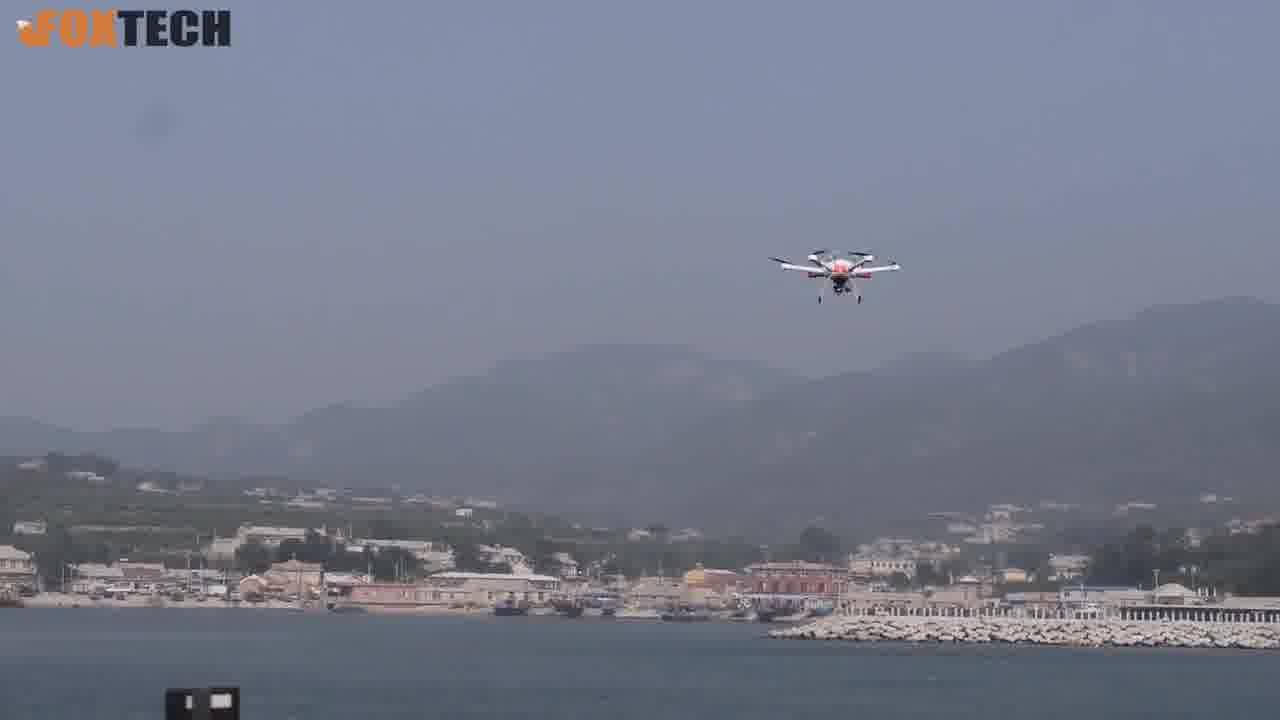drone: (746, 229, 934, 316)
